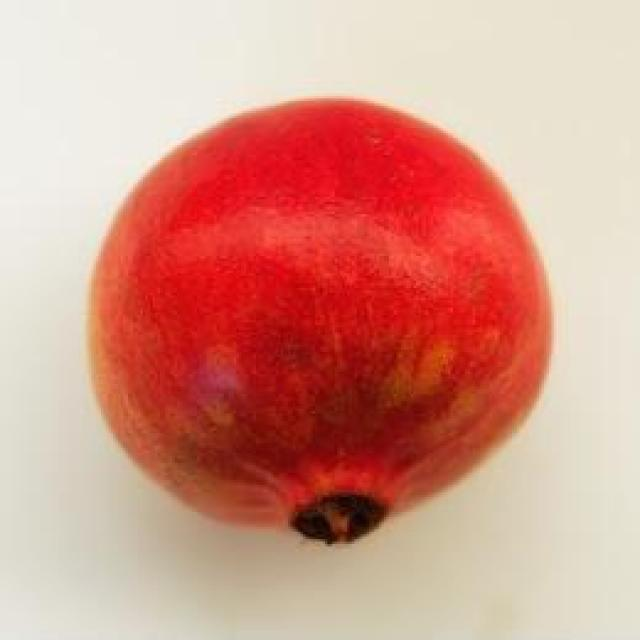Pomegranate: (85, 95, 557, 549)
